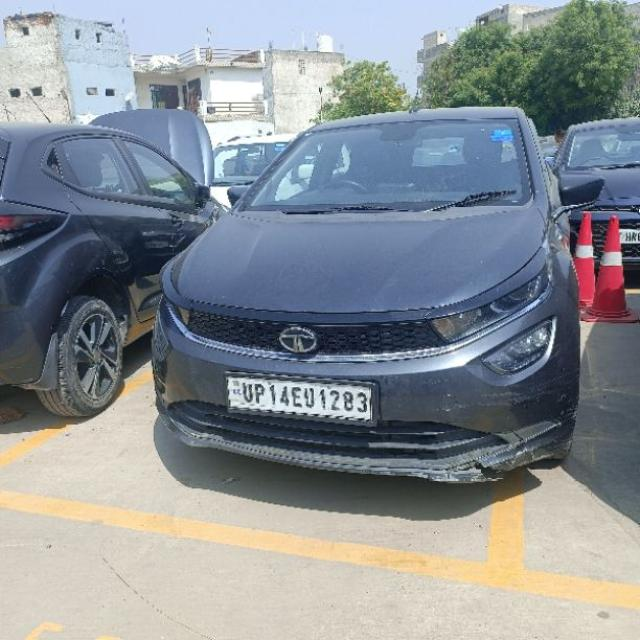license_plate: (224, 372, 377, 426)
